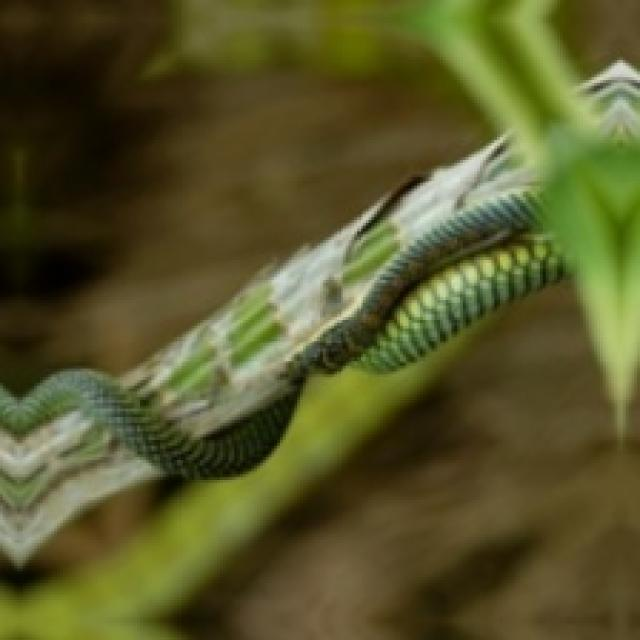paradise tree snake: (311, 190, 559, 371), (0, 370, 303, 478)
